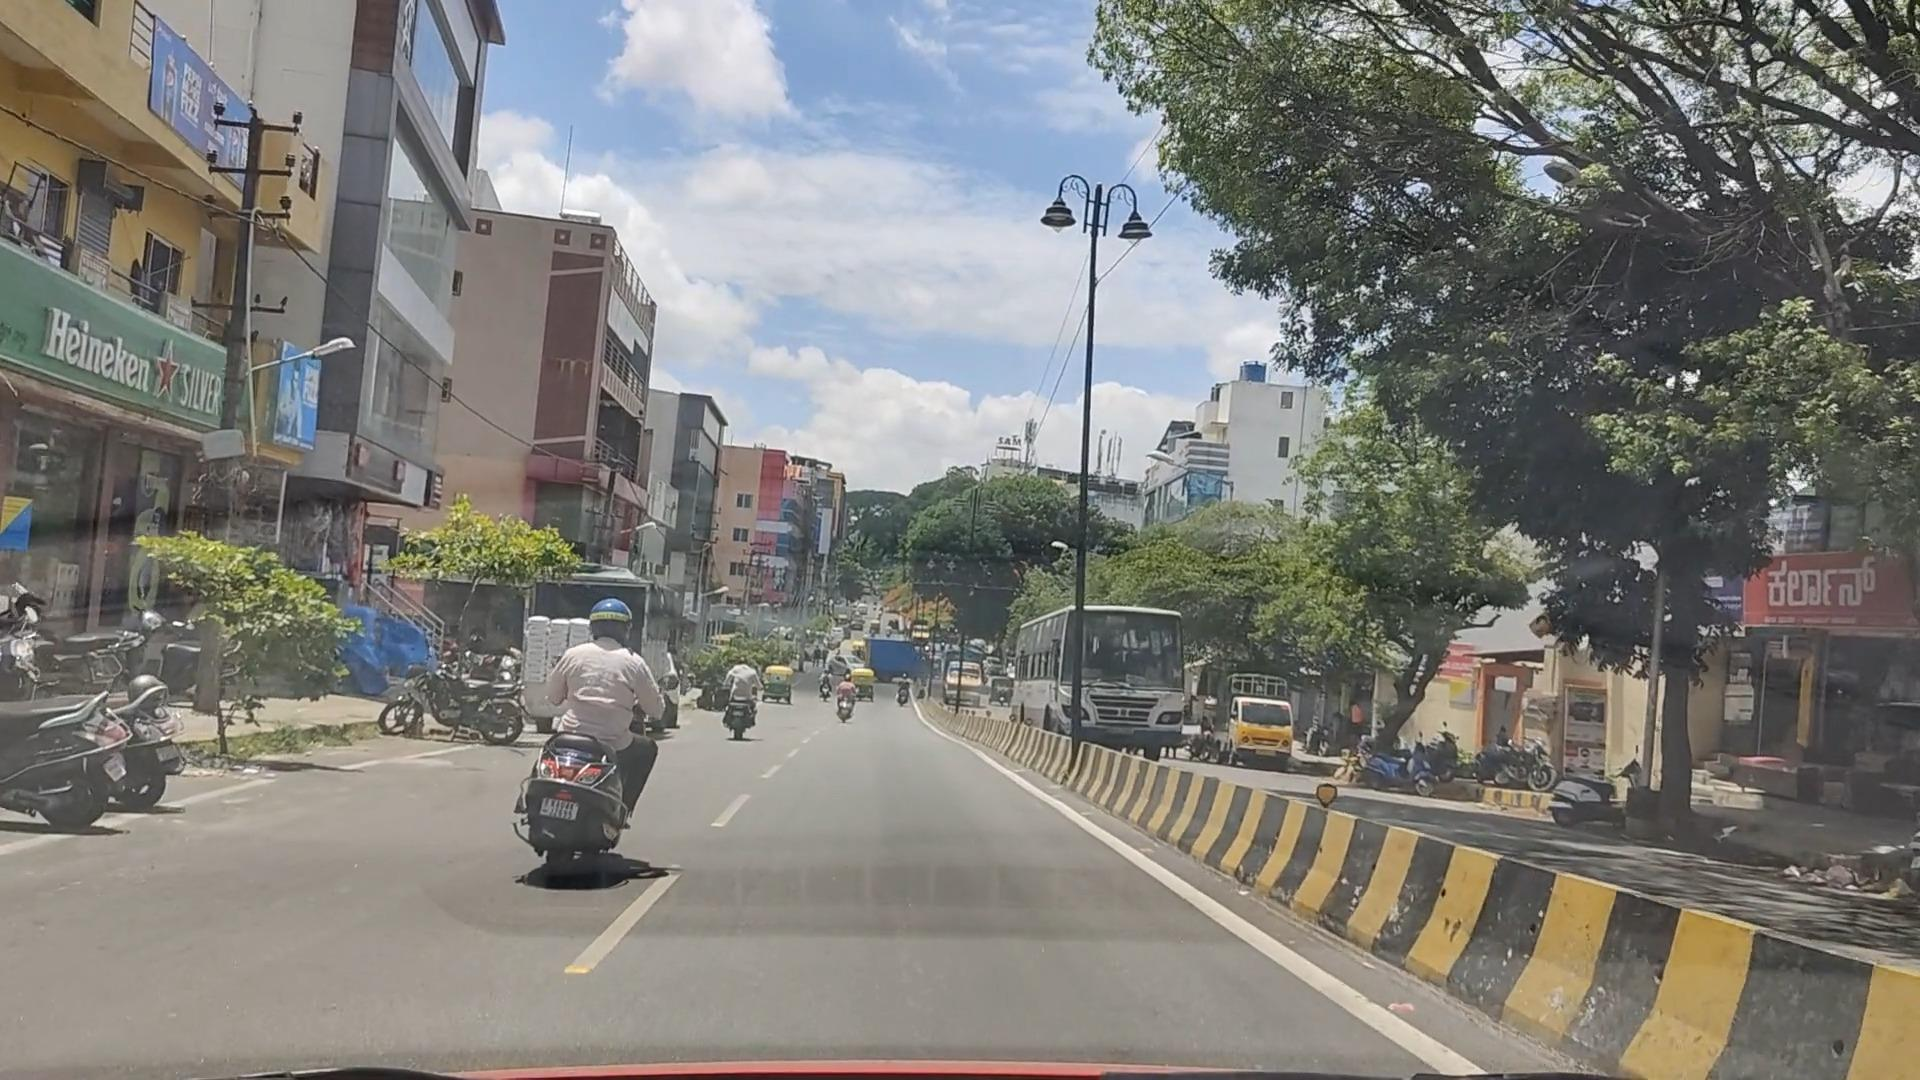LMV: (546, 591, 683, 874)
